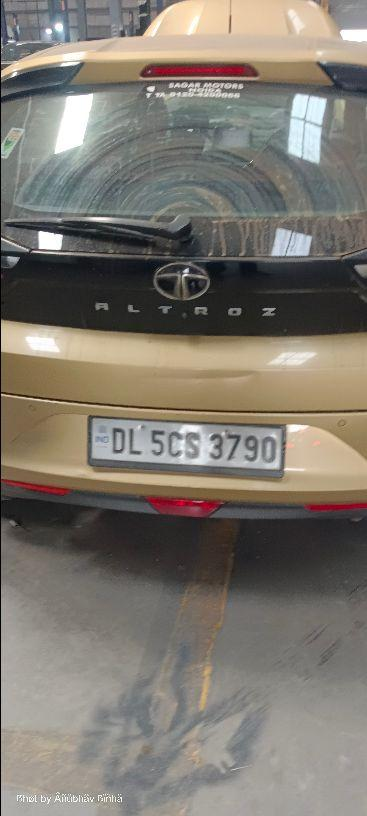license_plate: (86, 414, 286, 478)
